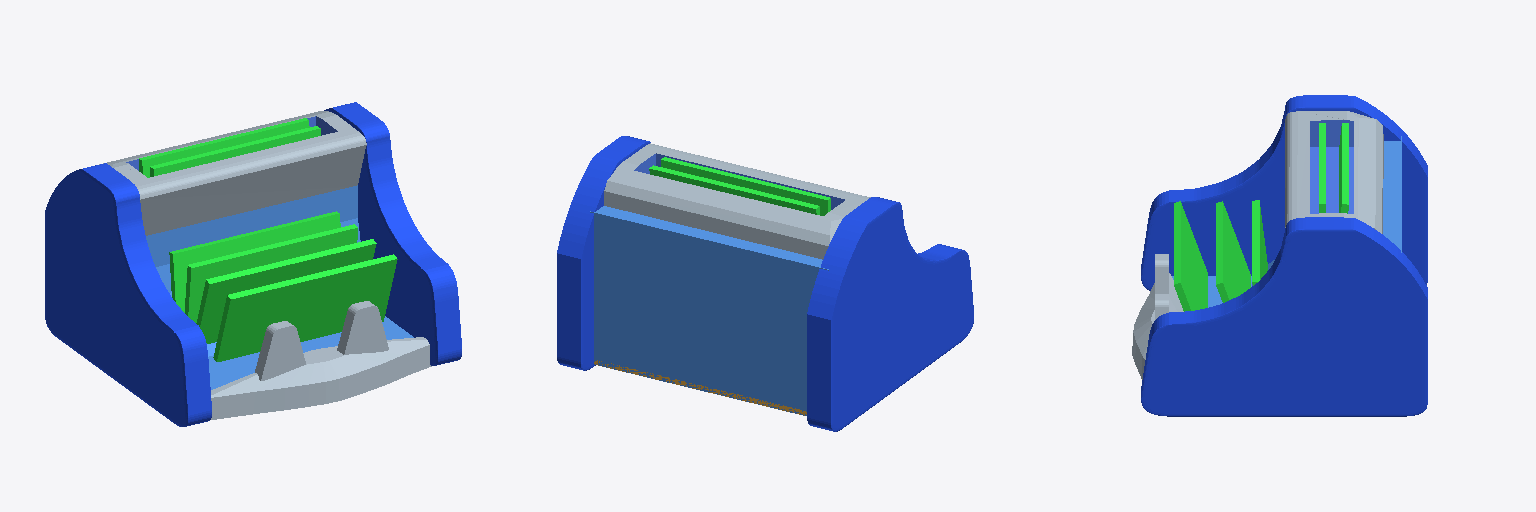
File: moneymachine_4.obj
3 views of the same model, side by side, from view 1: azimuth 30°, elevation 25°; view 2: azimuth 150°, elevation 25°; view 3: azimuth 270°, elevation 25° (orthographic).
Parts seen in each view (by area): view 1: Cube.126_Material.003, Cube.126_Material.018, Cube.126_Material.002, Cube.126_Material.013; view 2: Cube.126_Material.013, Cube.126_Material.003, Cube.126_Material.018, Cube.126_Material.002, Cube.126_Material.001, Cube.126_Material.012; view 3: Cube.126_Material.003, Cube.126_Material.018, Cube.126_Material.002, Cube.126_Material.001, Cube.126_Material.013.
Boxes of the visible parts, <box> form: Cube.126_Material.003: <box>45,102,461,426</box>; Cube.126_Material.018: <box>99,111,431,419</box>; Cube.126_Material.002: <box>139,118,397,361</box>; Cube.126_Material.013: <box>146,185,413,389</box>; Cube.126_Material.013: <box>590,206,828,415</box>; Cube.126_Material.003: <box>557,136,973,431</box>; Cube.126_Material.018: <box>604,143,870,259</box>; Cube.126_Material.002: <box>649,157,830,215</box>; Cube.126_Material.001: <box>634,153,844,209</box>; Cube.126_Material.012: <box>594,360,806,415</box>; Cube.126_Material.003: <box>1141,95,1427,416</box>; Cube.126_Material.018: <box>1132,111,1383,379</box>; Cube.126_Material.002: <box>1174,123,1348,311</box>; Cube.126_Material.001: <box>1310,120,1353,213</box>; Cube.126_Material.013: <box>1172,136,1401,307</box>.
Size of the model in its own units: 14.73 by 9.61 by 13.73.